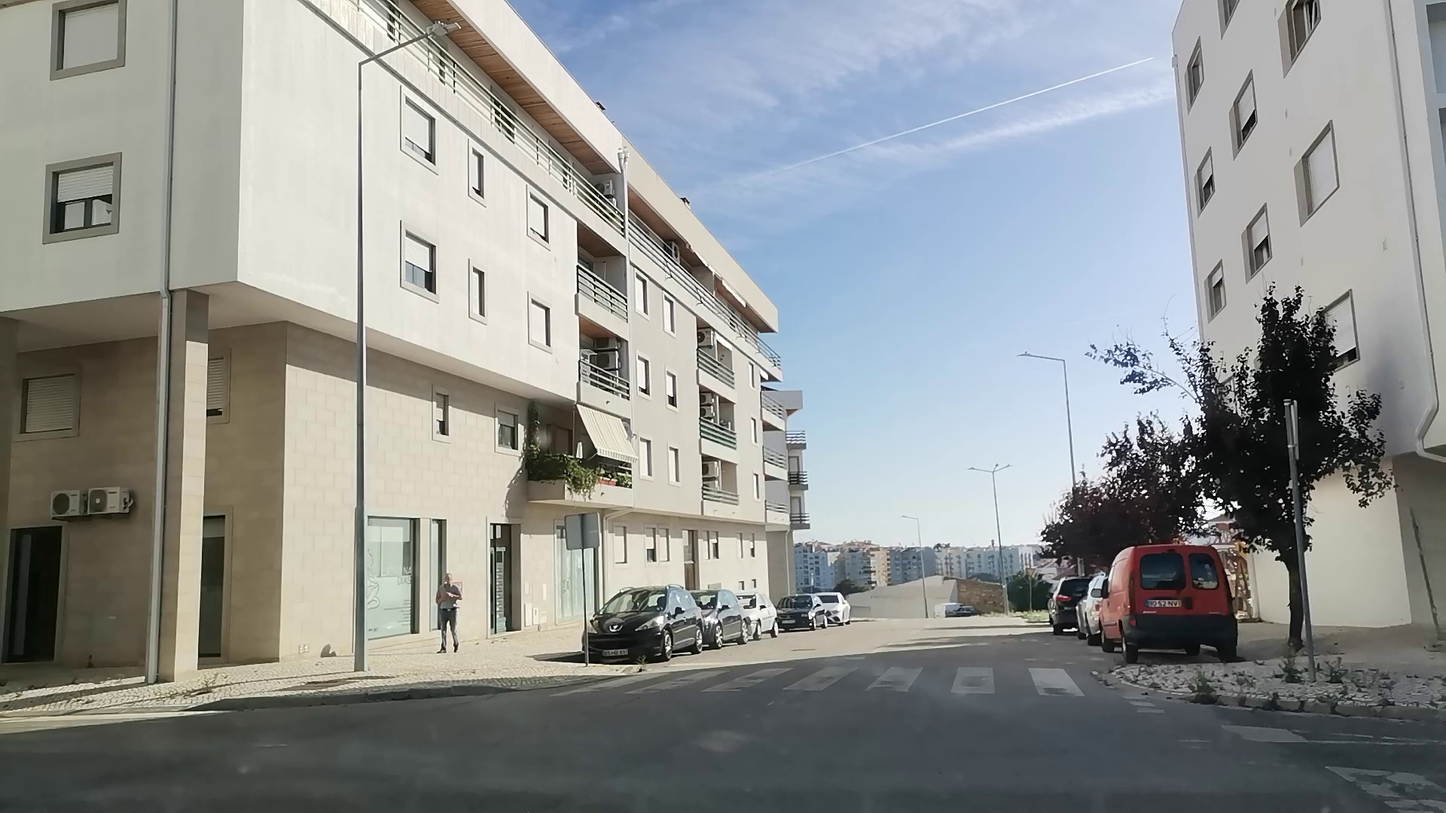Stairs: (595, 662, 1129, 709)
